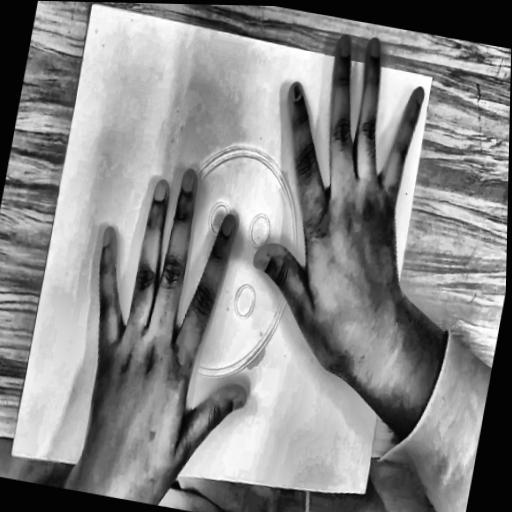bottom_left: (360, 486, 368, 497)
bottom_right: (8, 447, 15, 459)
top_left: (429, 72, 435, 81)
top_right: (133, 131, 319, 402), (87, 2, 95, 11)
